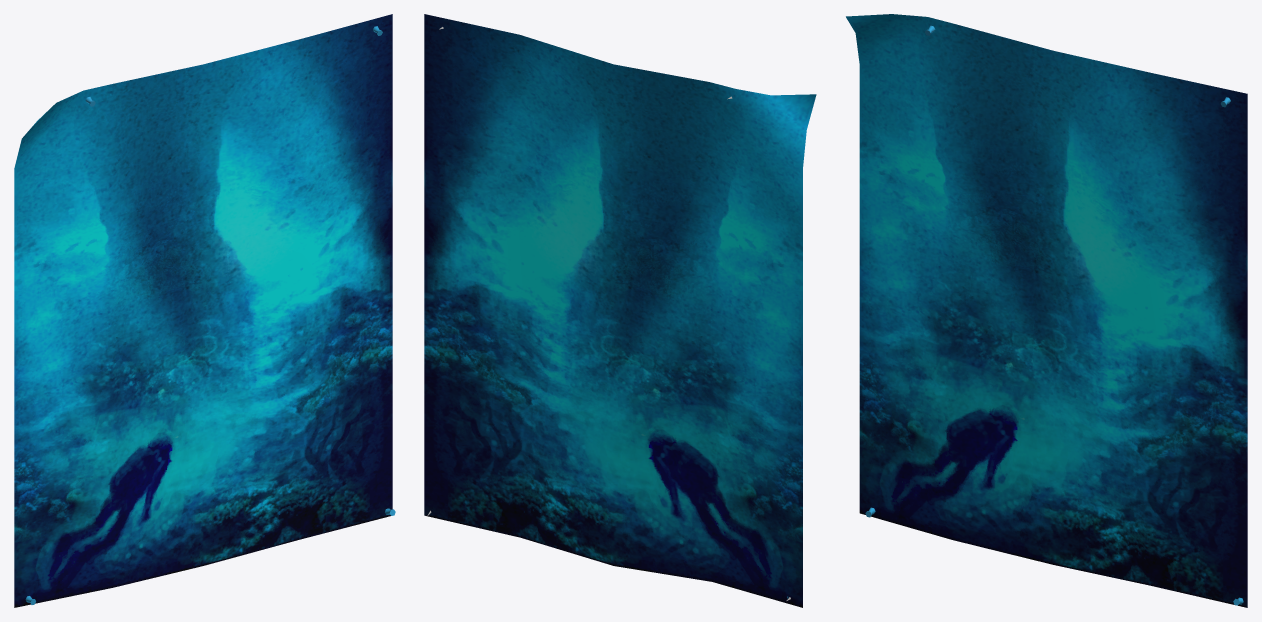
File: poster_simons_room_diver.dae
The picture shows the model from 3 angles, left to right: view 1: azimuth 30°, elevation 25°; view 2: azimuth 150°, elevation 25°; view 3: azimuth 330°, elevation 25°; orthographic projection. The views are drawn at different scales.
Parts seen in each view (by area): view 1: poster_simons_room_diver_pPlane1; view 2: poster_simons_room_diver_pPlane1; view 3: poster_simons_room_diver_pPlane1.
Boxes of the visible parts, x1,y1,x2,y2 form: poster_simons_room_diver_pPlane1: [14, 14, 392, 607]; poster_simons_room_diver_pPlane1: [424, 14, 816, 607]; poster_simons_room_diver_pPlane1: [846, 14, 1247, 607].
Bounding box in the file's own units: 94.76 × 121 × 9.8.
